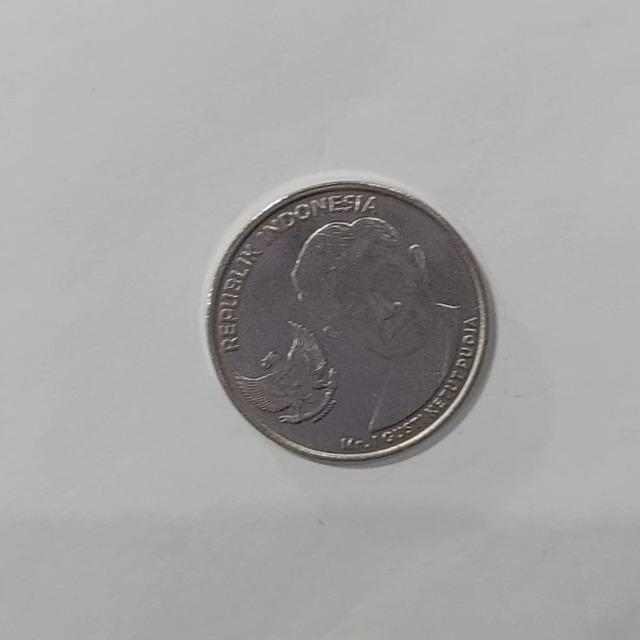Rp100: (202, 172, 493, 467)
